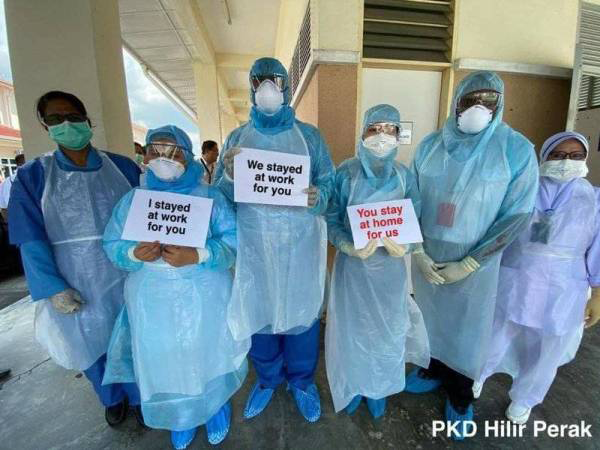Coverall: (108, 130, 236, 424), (411, 69, 534, 366), (223, 54, 333, 383), (324, 102, 405, 398)
Gloves: (439, 255, 486, 288), (413, 241, 439, 289)
with_mask: (541, 143, 586, 189), (45, 108, 94, 149), (458, 89, 500, 135), (145, 145, 186, 182), (361, 120, 400, 156), (253, 73, 283, 116)
